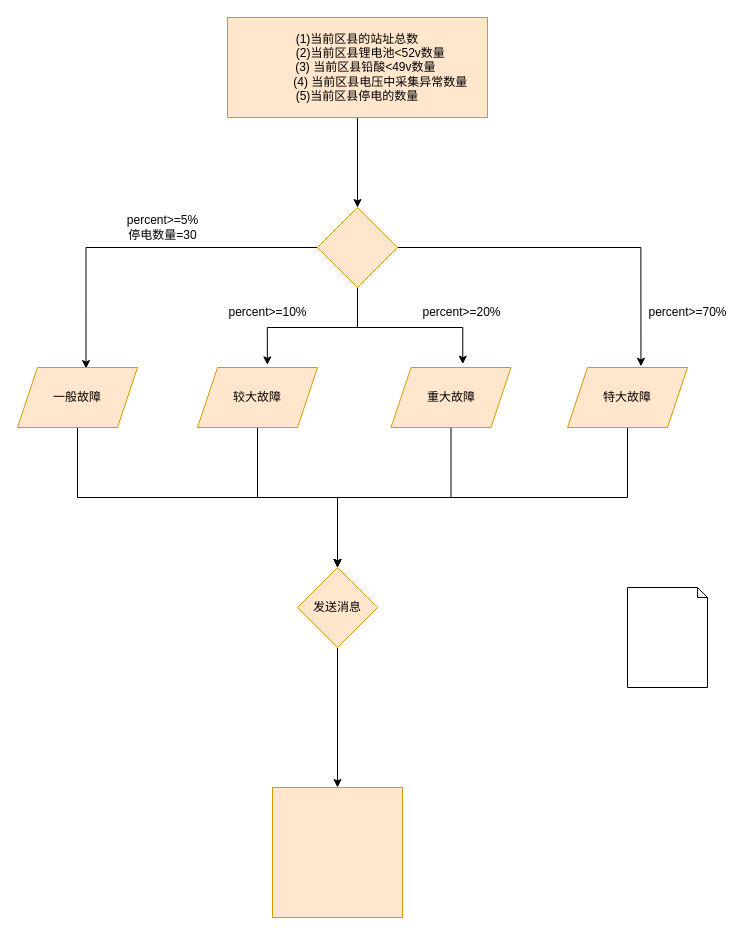
Some shapes in this 755 by 935 pixel diagram are drawn without their labels. The box of each missing label's shape, as (x1, y1, x2, y2) in pixels:
停电 / 站址 （percent）: (316, 206, 398, 288)
消息模板：吕梁分公司【汾阳市】停电61站,达到较大故障等级,其中铅酸电池低于49v的有2站,锂电池低于52V的有0站，电池采集异常的有1站: (272, 786, 402, 918)
